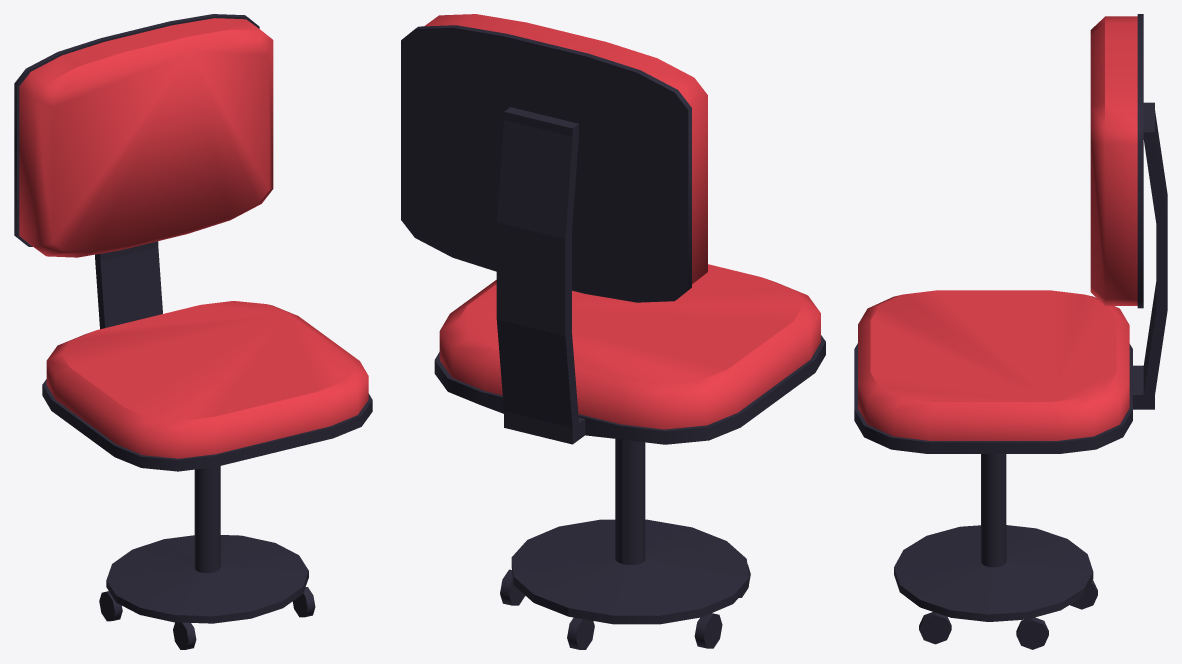
Rendered from office chair.fbx.
3 views of the same model, side by side, from view 1: azimuth 30°, elevation 25°; view 2: azimuth 150°, elevation 25°; view 3: azimuth 270°, elevation 25° (orthographic). The views are drawn at different scales.
Visible parts, largest first — view 1: Cube; view 2: Cube; view 3: Cube.
Part boxes in pixels (bbox=[...]): Cube: bbox=[14, 14, 372, 649]; Cube: bbox=[401, 14, 825, 649]; Cube: bbox=[854, 14, 1167, 649].
Size of the model in its own units: 319 by 647 by 333.
